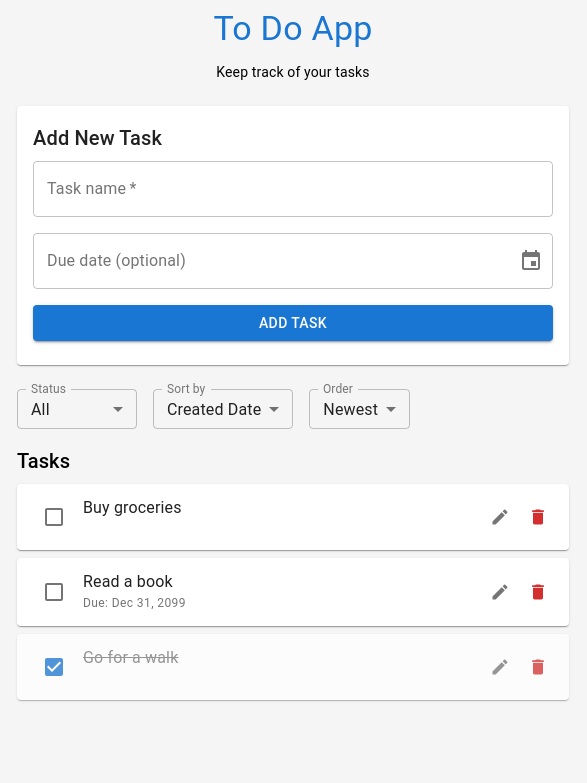
Test: App Component › marks a todo as completed
This screenshot has width=587, height=783.
Expected: the text "Buy groceries" is shown, [83,498,182,517]
Note: Find the list item containing 'Buy groceries' and click its checkbox
Click the checkbox next to "Buy groceries": [54, 517] box [42,505,66,529]
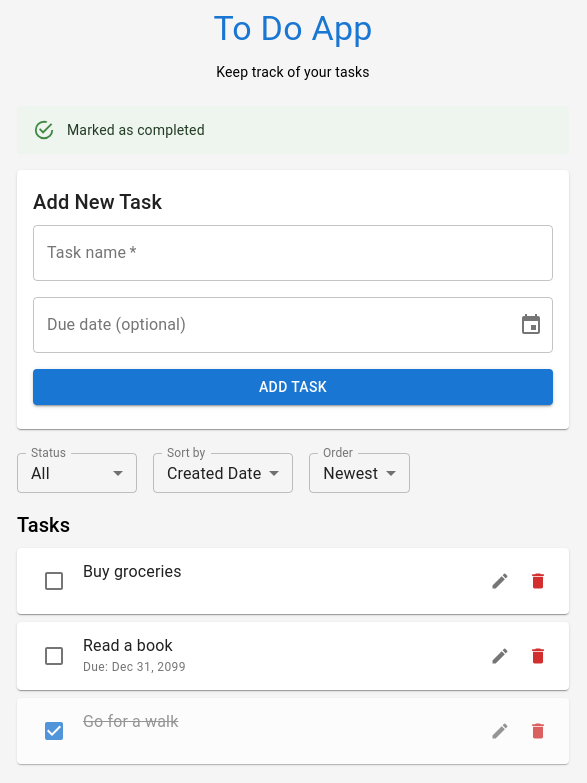
Result: the message reads "Marked as completed" at [67,122,205,138]
